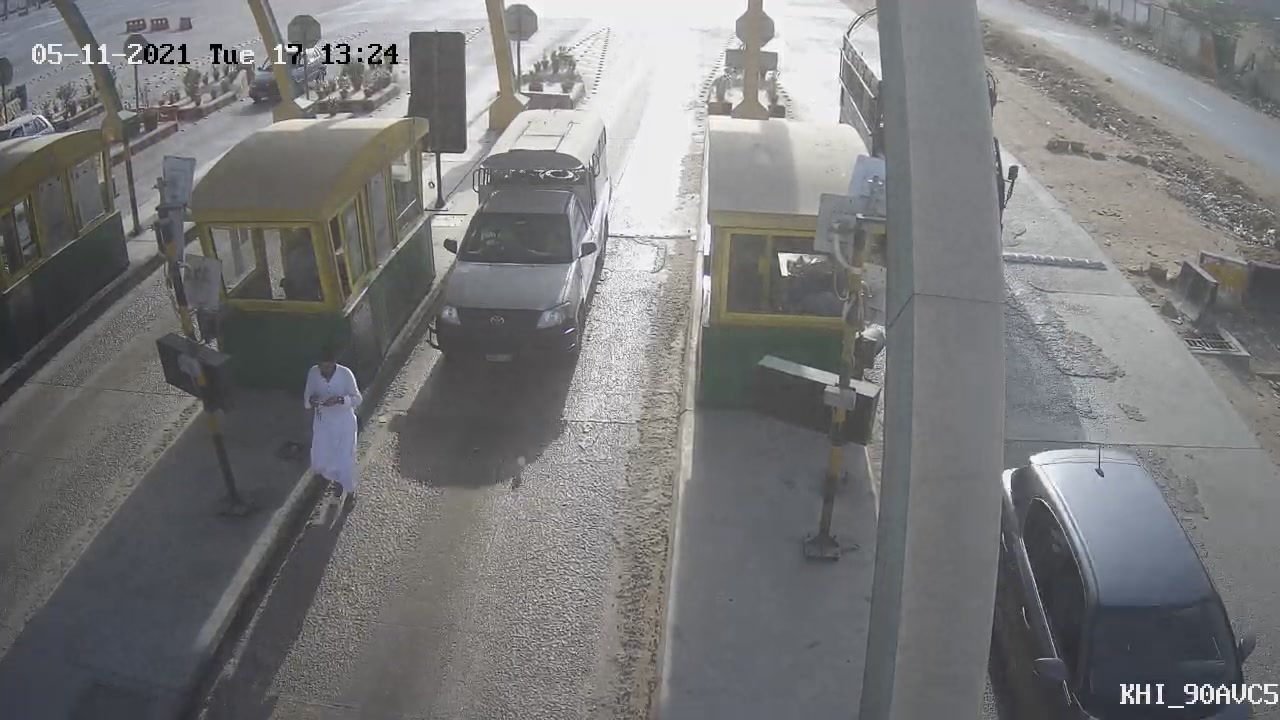F1: (407, 88, 631, 386)
